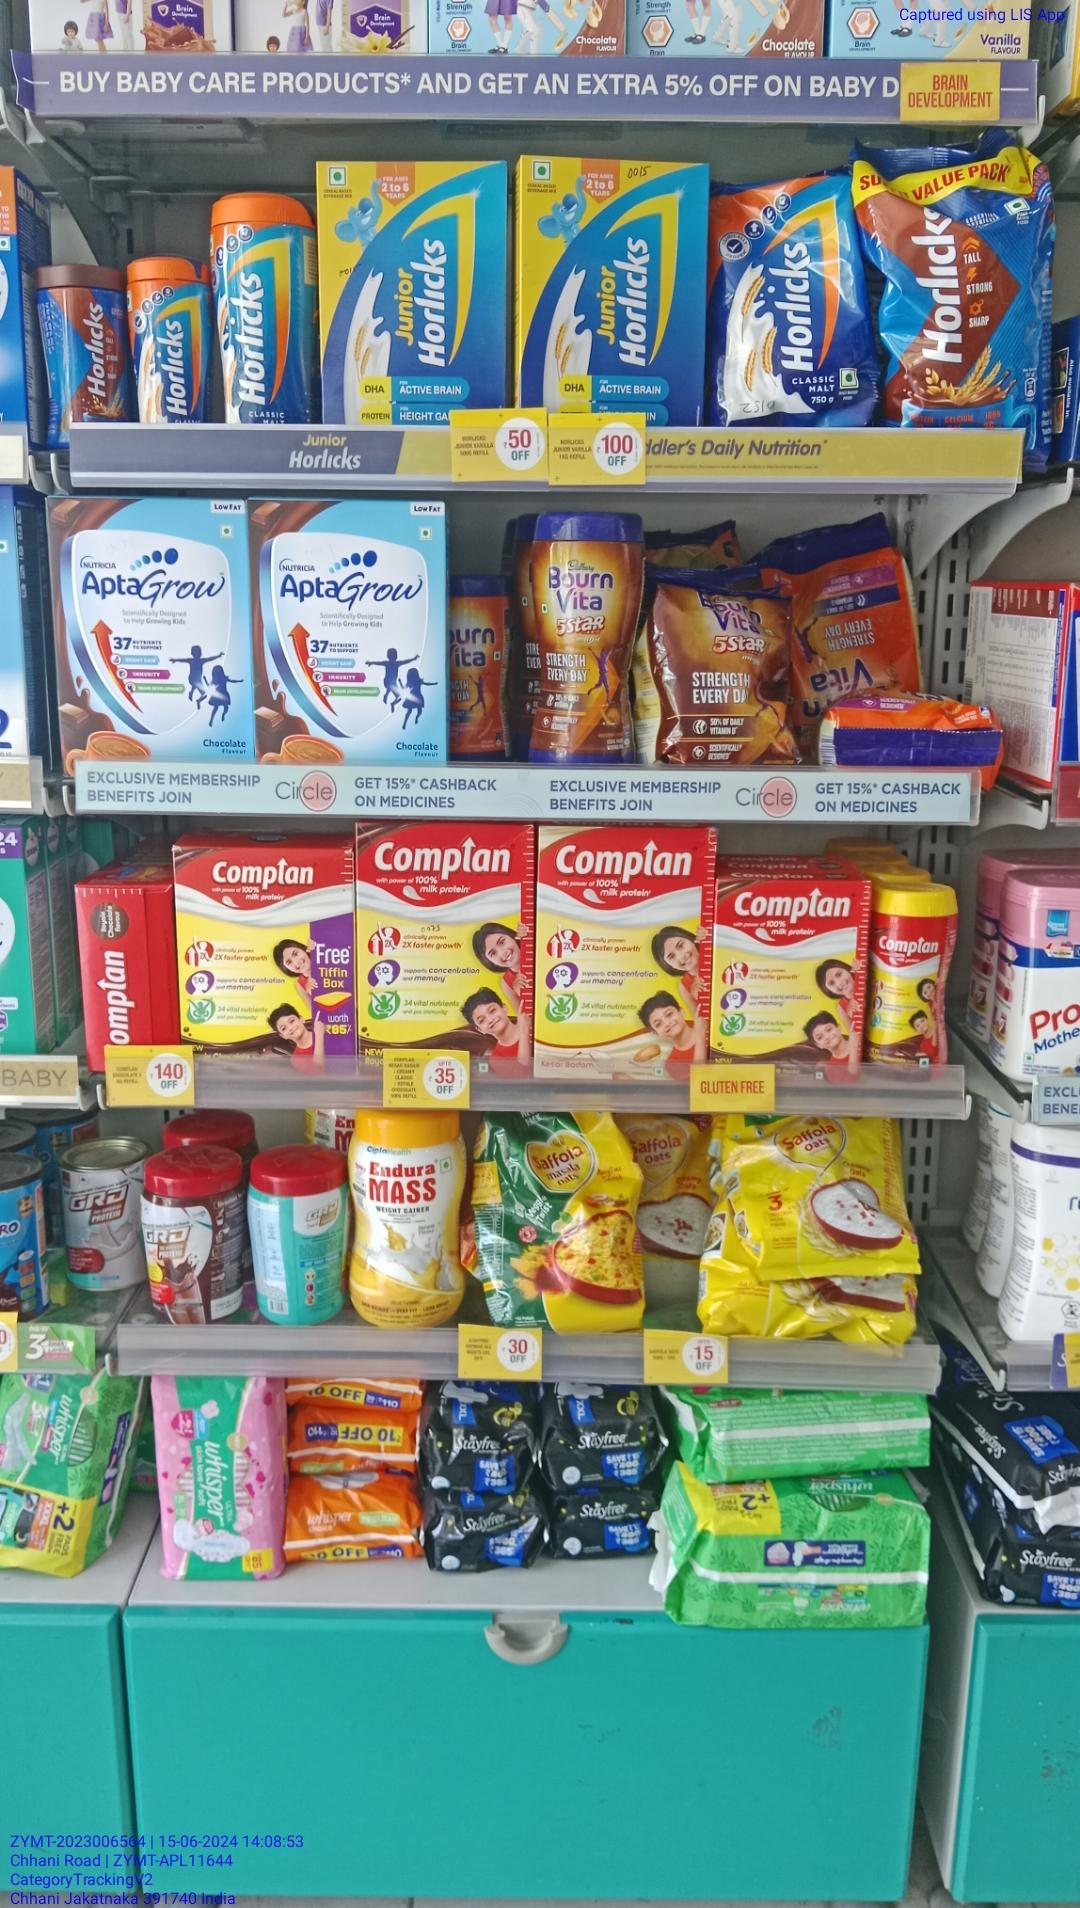BOURN_VITA_200_G_JAR: (450, 573, 510, 767)
BOURN_VITA_FIVE_STAR_MAGIC_500_G_JAR: (530, 510, 636, 757)
BOURN_VITA_FIVE_STAR_MAGIC_500_G_POUCH: (657, 583, 802, 773)
COMPLAN_CHOCOLATE_500_GMS_JAR: (868, 883, 957, 1077)
COMPLAN_CHOCOLATE_500_GMS_PACK: (360, 824, 535, 1073), (176, 848, 357, 1075), (713, 878, 862, 1078)
COMPLAN_KESAR_BADAM_500_GMS_PACK: (540, 827, 705, 1082)
HORLICK_CHOCOLATE_500_G_JAR: (33, 261, 126, 421)
HORLICK_CHOCOLATE_750_G_POUCH: (876, 140, 1050, 425)
HORLICK_CLASSIC_MALT_500_G_JAR: (127, 254, 215, 427)
HORLICK_CLASSIC_MALT_750_G_POUCH: (714, 180, 870, 427)
